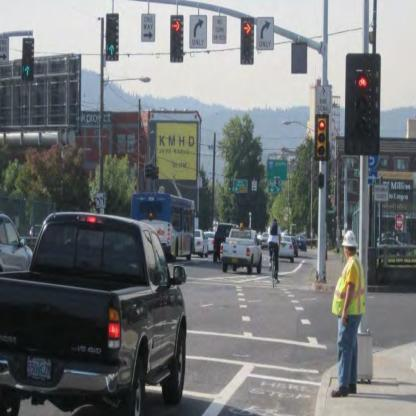Traffic Signal: (240, 18, 255, 63), (316, 114, 330, 161), (170, 16, 183, 62), (106, 15, 118, 57), (23, 39, 35, 79)
